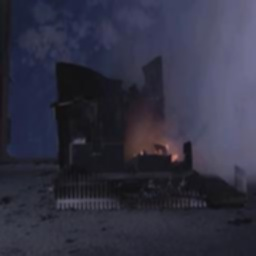smoke: (134, 0, 256, 143)
